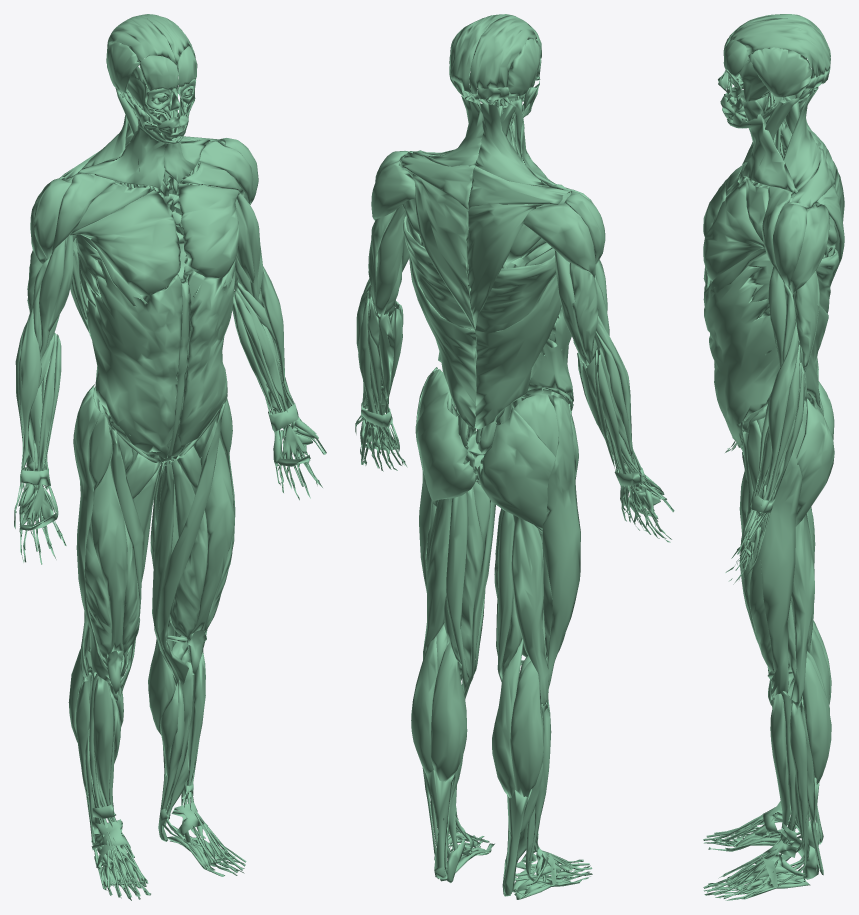
File: muscles-low.glb
3 renders of one model, left to right at view 1: azimuth 30°, elevation 25°; view 2: azimuth 150°, elevation 25°; view 3: azimuth 270°, elevation 25°, orthographic. The views are drawn at different scales.
Visible parts, largest first — view 1: muscles; view 2: muscles; view 3: muscles.
Boxes of the visible parts, x1,y1,x2,y2 form: muscles: (14,14,326,900); muscles: (355,14,674,899); muscles: (703,14,844,900).
Size of the model in its own units: 0.7715 by 1.99 by 0.3.
